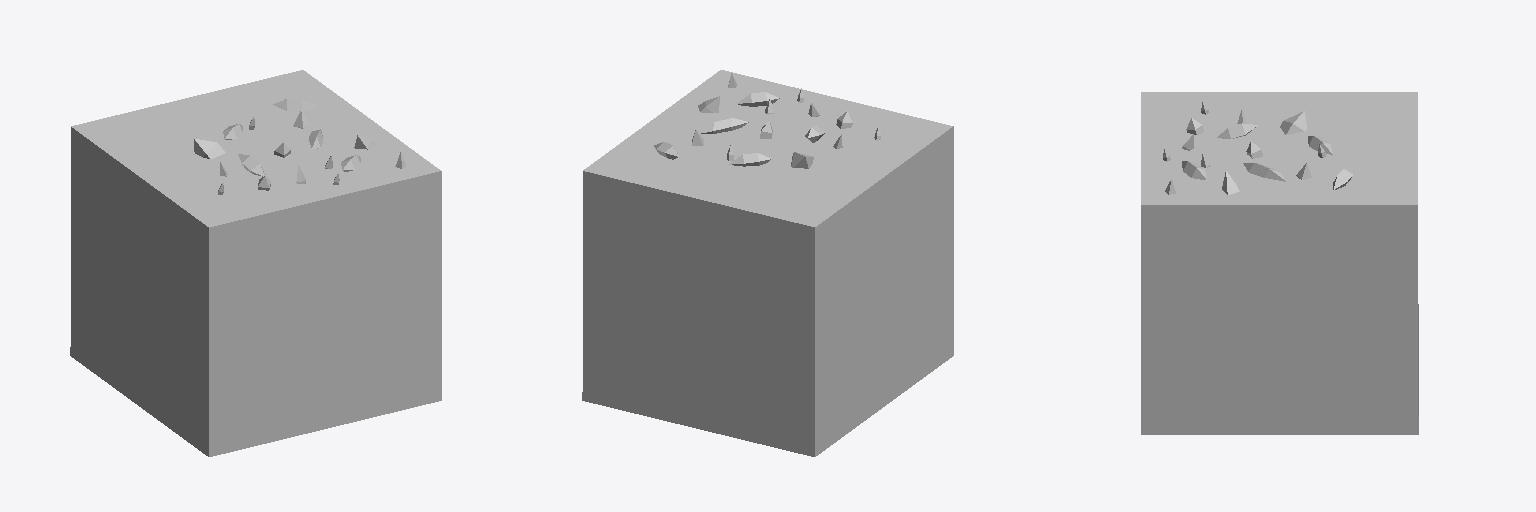
Rendered from recursos2.obj.
3 views of the same model, side by side, from view 1: azimuth 30°, elevation 25°; view 2: azimuth 150°, elevation 25°; view 3: azimuth 270°, elevation 25° (orthographic).
Parts seen in each view (by area): view 1: polySurface117; view 2: polySurface117; view 3: polySurface117.
Boxes of the visible parts, <box> form: polySurface117: <box>70,70,441,456</box>; polySurface117: <box>582,70,953,456</box>; polySurface117: <box>1141,92,1418,434</box>.
Size of the model in its own units: 9.36 by 9.42 by 9.66.